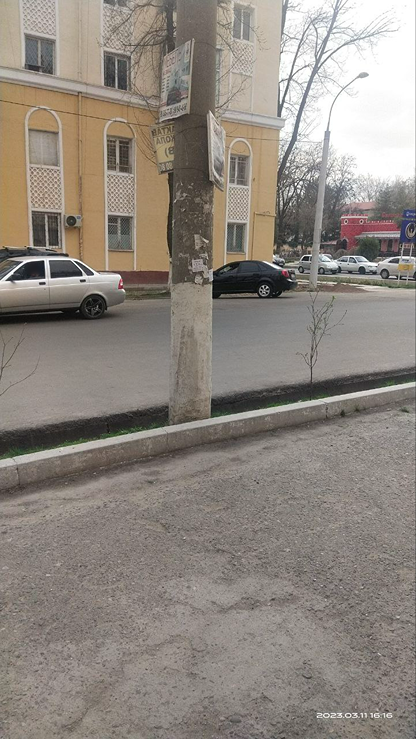car: (0, 250, 132, 316), (216, 251, 303, 293), (298, 242, 334, 276), (377, 256, 416, 283), (340, 251, 375, 275)
